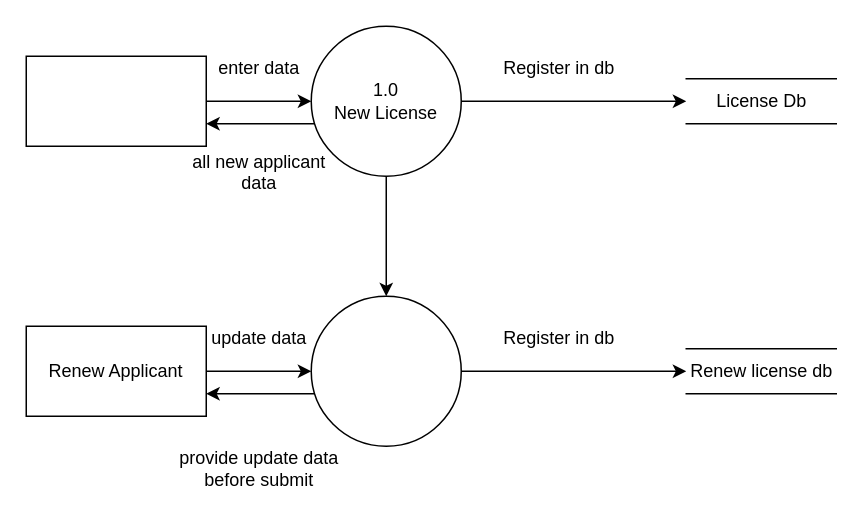
Some shapes in this 863 by 518 pixel diagram are drawn without their labels. Each missing label, with the centre of its shape:
"2.0 Renew License" goes at point 385,370.
"New Applicant" goes at point 115,100.
